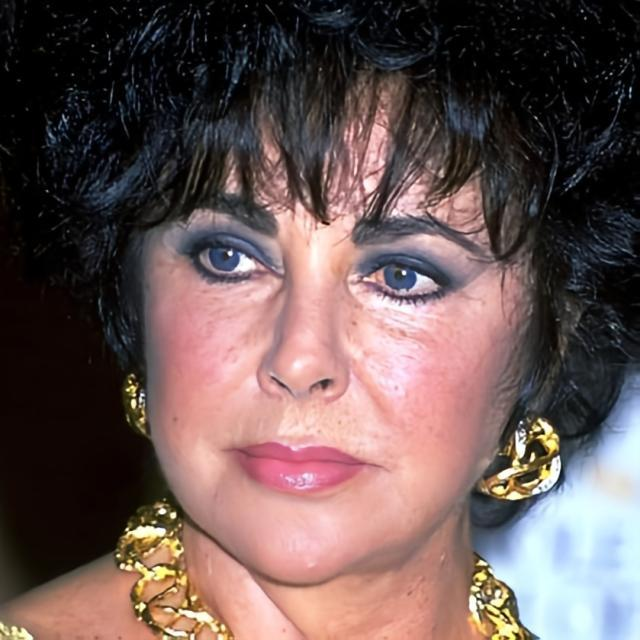neutral: (143, 61, 538, 588)
